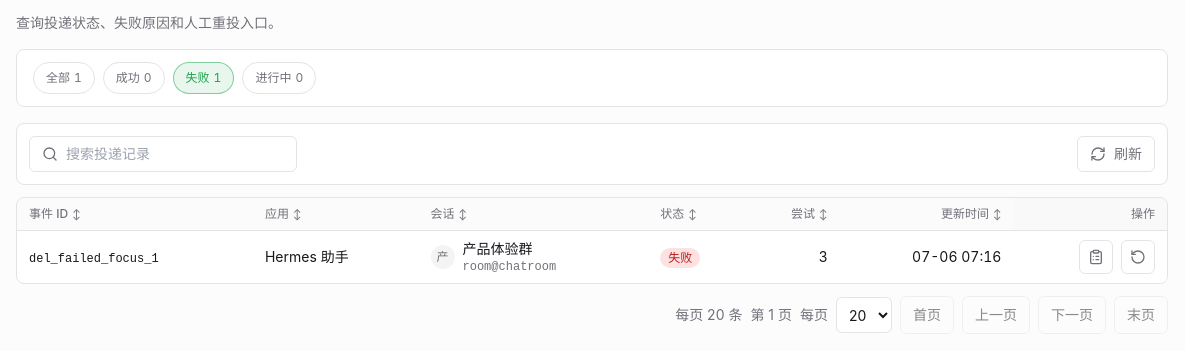
Test: AdminPage › 推送日志默认聚焦失败投递，并能一键切换到全部投递
Expected: the text "del_failed_focus_1" is shown, left=29, top=252, right=159, bottom=266
Expected: the element named "推送日志状态" is shown, left=16, top=49, right=1168, bottom=107
Step 1. Click the button "全部 1" → [64, 78], box left=33, top=62, right=95, bottom=94
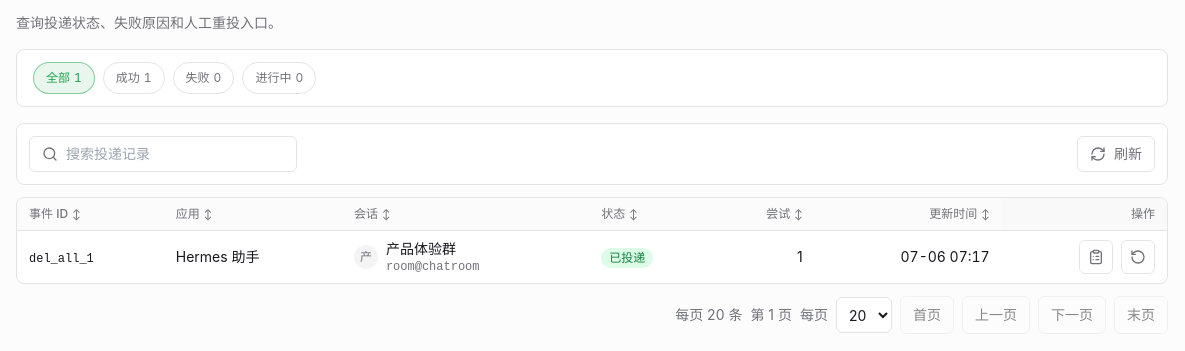
Expected: the text "del_all_1" is shown, left=29, top=252, right=94, bottom=266
